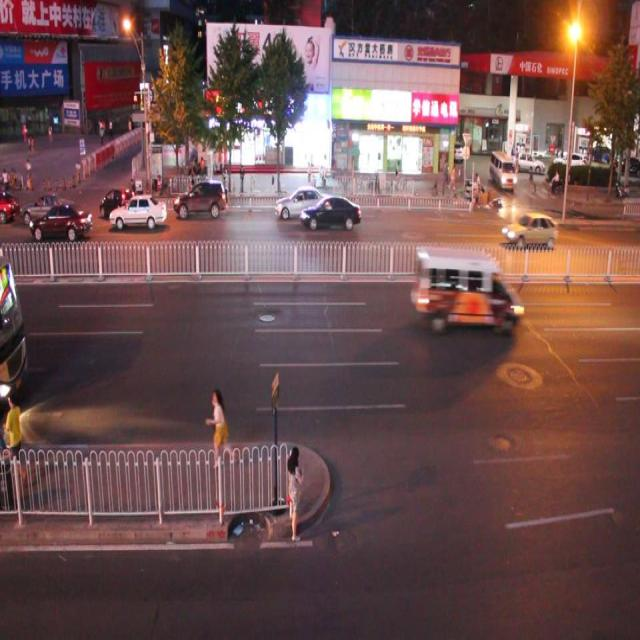car: (30, 201, 94, 243), (298, 192, 362, 232), (108, 192, 167, 232), (172, 177, 227, 219), (501, 210, 558, 250), (21, 188, 76, 229), (274, 183, 330, 221), (101, 180, 145, 223)
truck: (411, 243, 524, 335)
